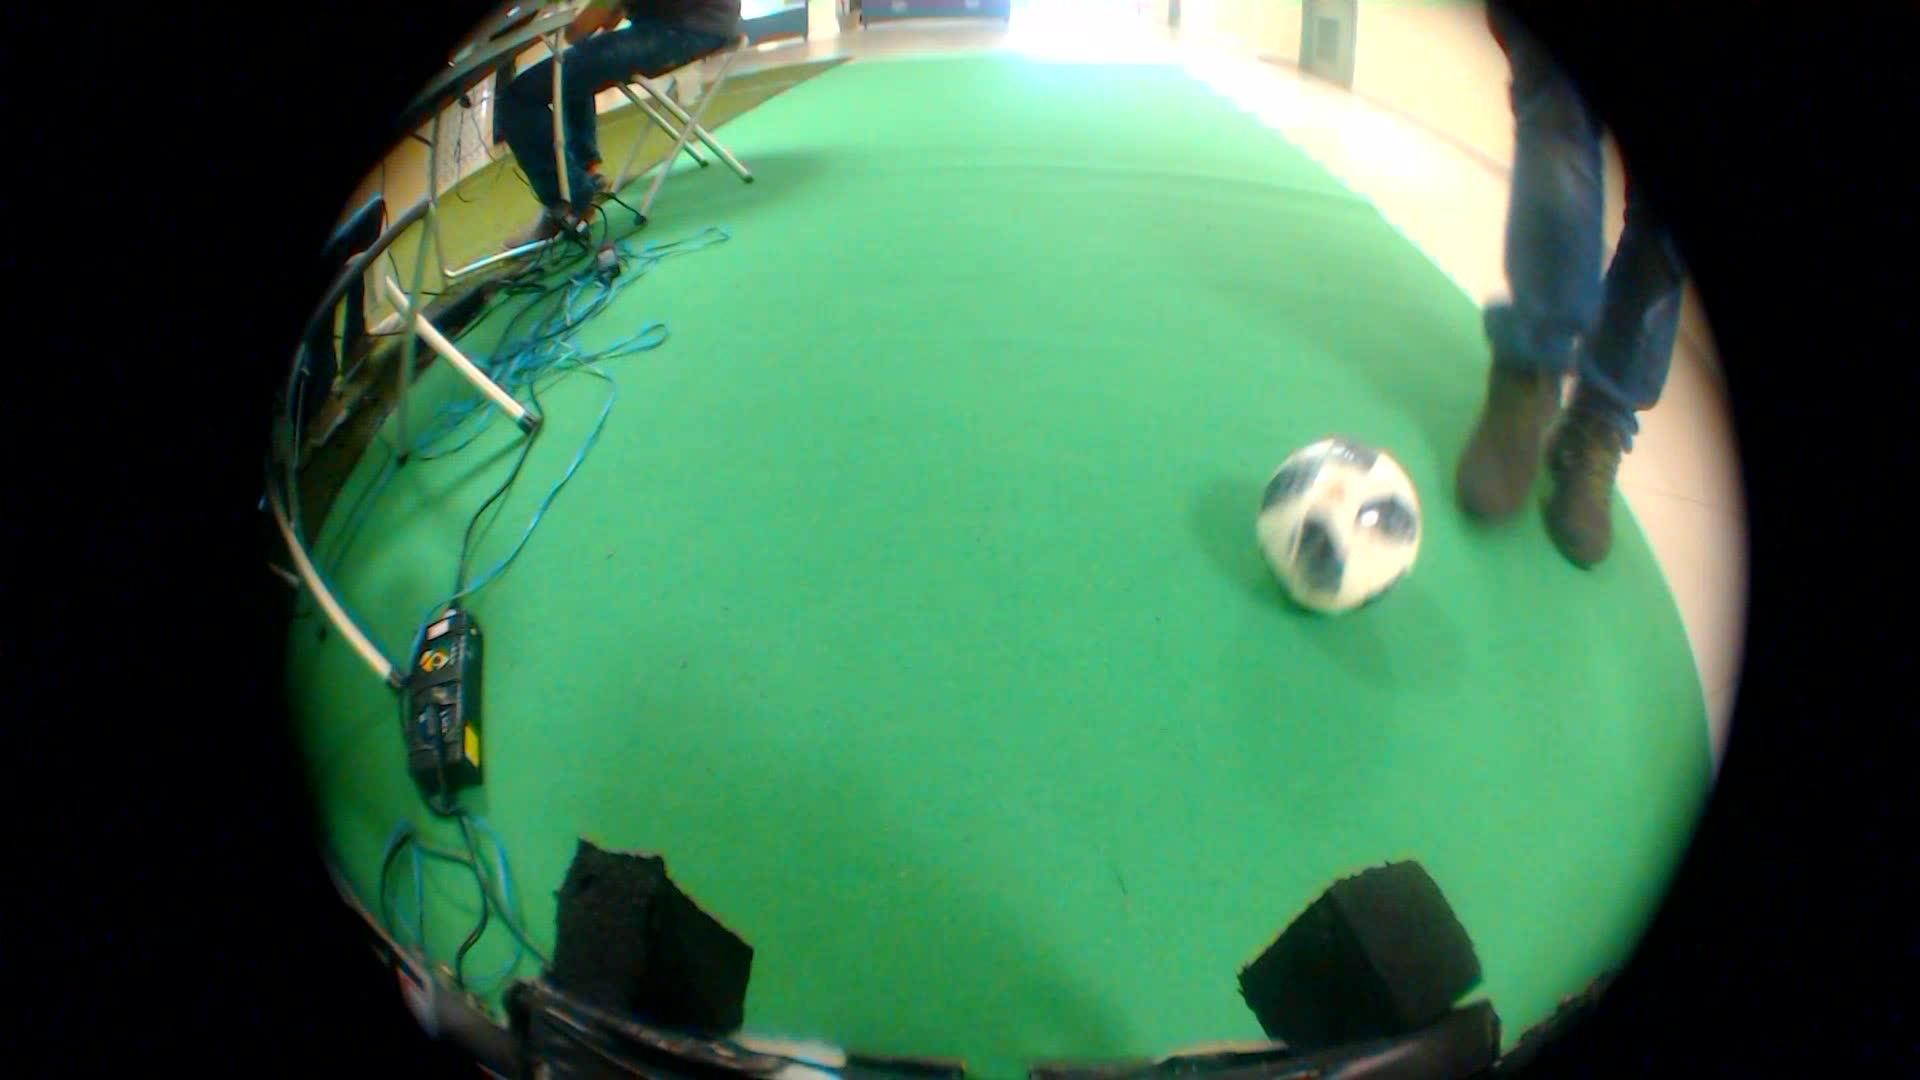ball: (1230, 427, 1431, 628)
